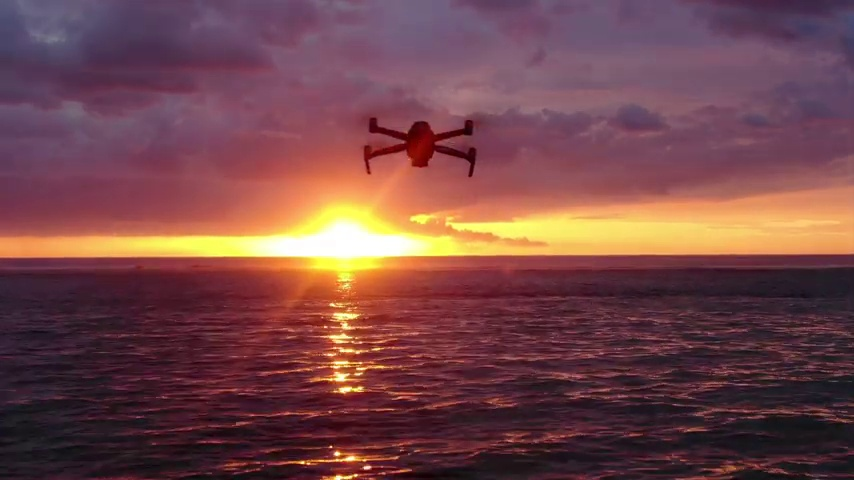drone: (362, 115, 476, 178)
